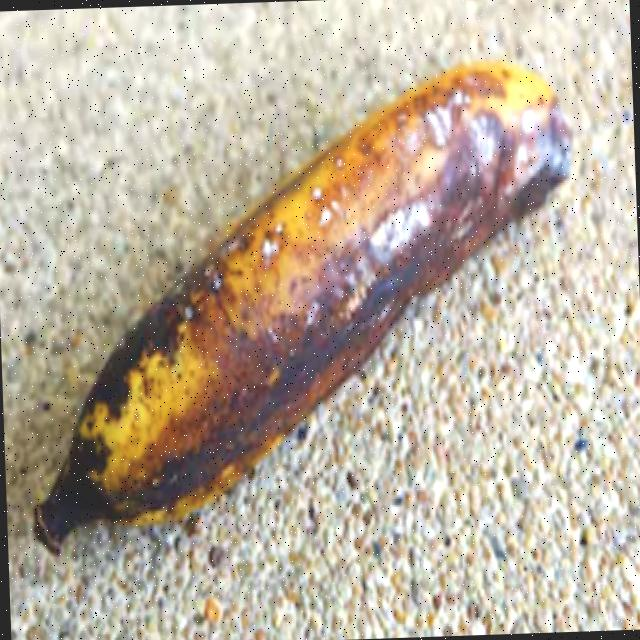Rotten: (16, 44, 588, 558)
